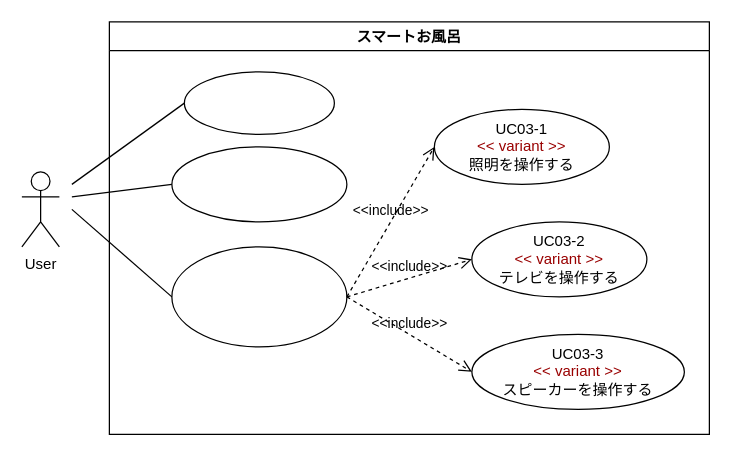
Image size: 731x456. Some labels were removed from this diagram. The centre of each missing label's shape, as x and y in pixels:
UC01 お風呂をためる: pixel 258 102
UC02 お風呂を空にする: pixel 259 184
UC03 << variation point >> デバイスを操作する: pixel 259 296
